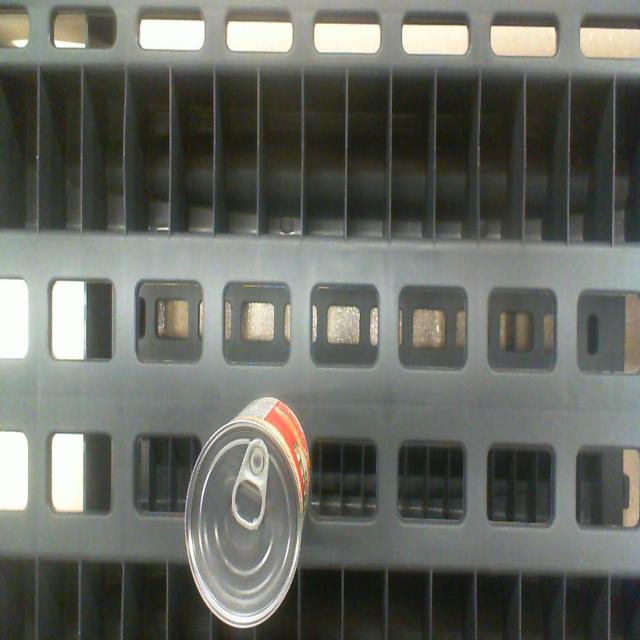can: (186, 422, 302, 628)
